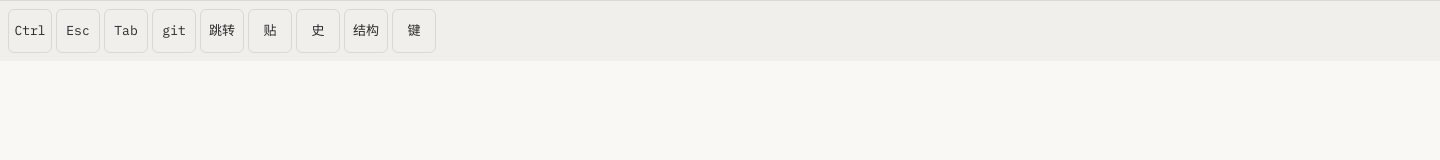
Test case: clipboard key › surfaces a denial at read time instead of failing silently
The width and height of the screenshot is (1440, 160).
What coordinates should you click on to do the following:
click the button with test id "phone-key-clip"
I would click on:
 (270, 31)
Its box is top-left (248, 9), bottom-right (292, 53).
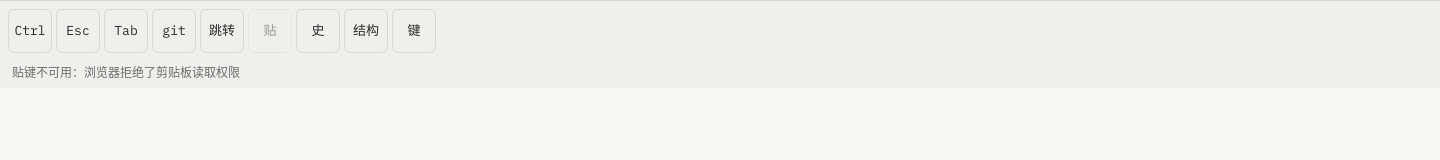
Expected: the button with test id "phone-key-clip" is disabled, top-left (248, 9), bottom-right (292, 53)
Expected: the text "贴键不可用：浏览器拒绝了剪贴板读取权限" is shown, top-left (12, 65), bottom-right (240, 80)
